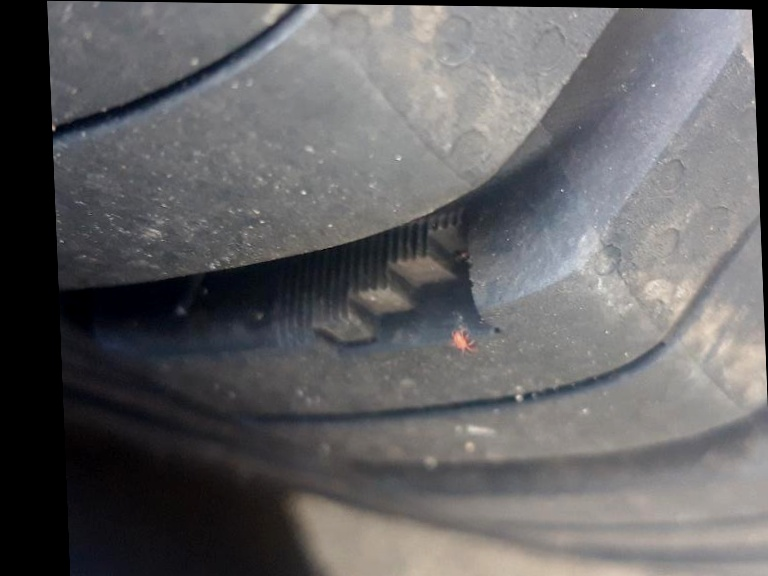temoin:80: (258, 197, 517, 380)
